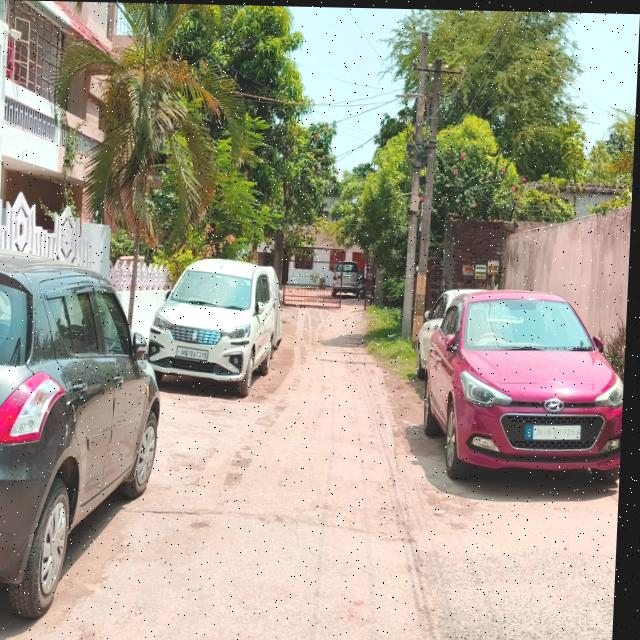bike: (359, 268, 370, 298)
car: (0, 238, 173, 628), (420, 272, 631, 504), (149, 244, 291, 408), (414, 281, 455, 380), (334, 256, 363, 297)
